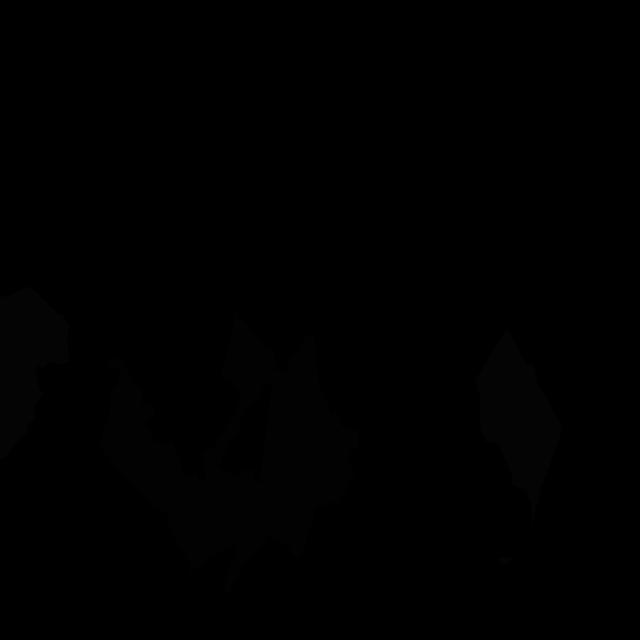cardboard: (182, 398, 289, 592), (100, 358, 205, 549), (258, 333, 336, 557), (220, 301, 276, 407), (329, 412, 360, 507)
soft_plastic: (475, 330, 563, 527), (0, 286, 69, 460), (498, 557, 514, 565)
